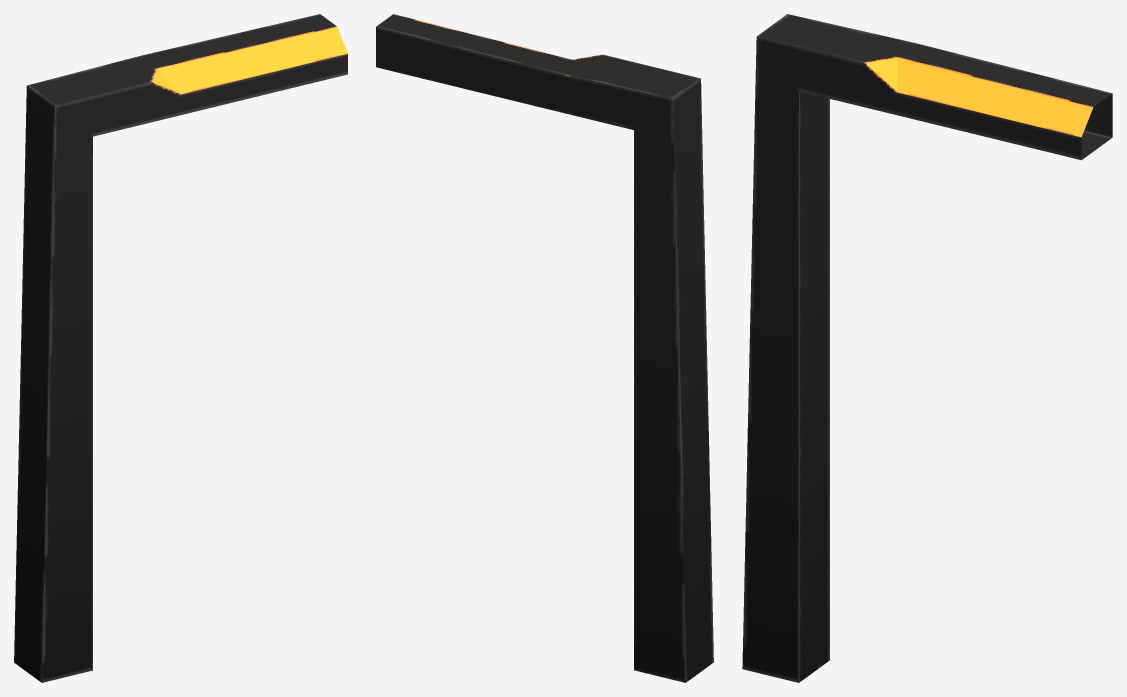
Rendered from GarageDoorFrame.glb.
The picture shows the model from 3 angles, left to right: view 1: azimuth 30°, elevation 25°; view 2: azimuth 150°, elevation 25°; view 3: azimuth 330°, elevation 25°; orthographic projection. The views are drawn at different scales.
Visible parts, largest first — view 1: Cube.033; view 2: Cube.033; view 3: Cube.033.
Part boxes in pixels (<box>): Cube.033: <box>14,14,347,682</box>; Cube.033: <box>376,14,713,682</box>; Cube.033: <box>742,14,1112,682</box>.
Size of the model in its own units: 2.4 by 4.3 by 0.4065.
Materials: 1 (1 with a texture image).
